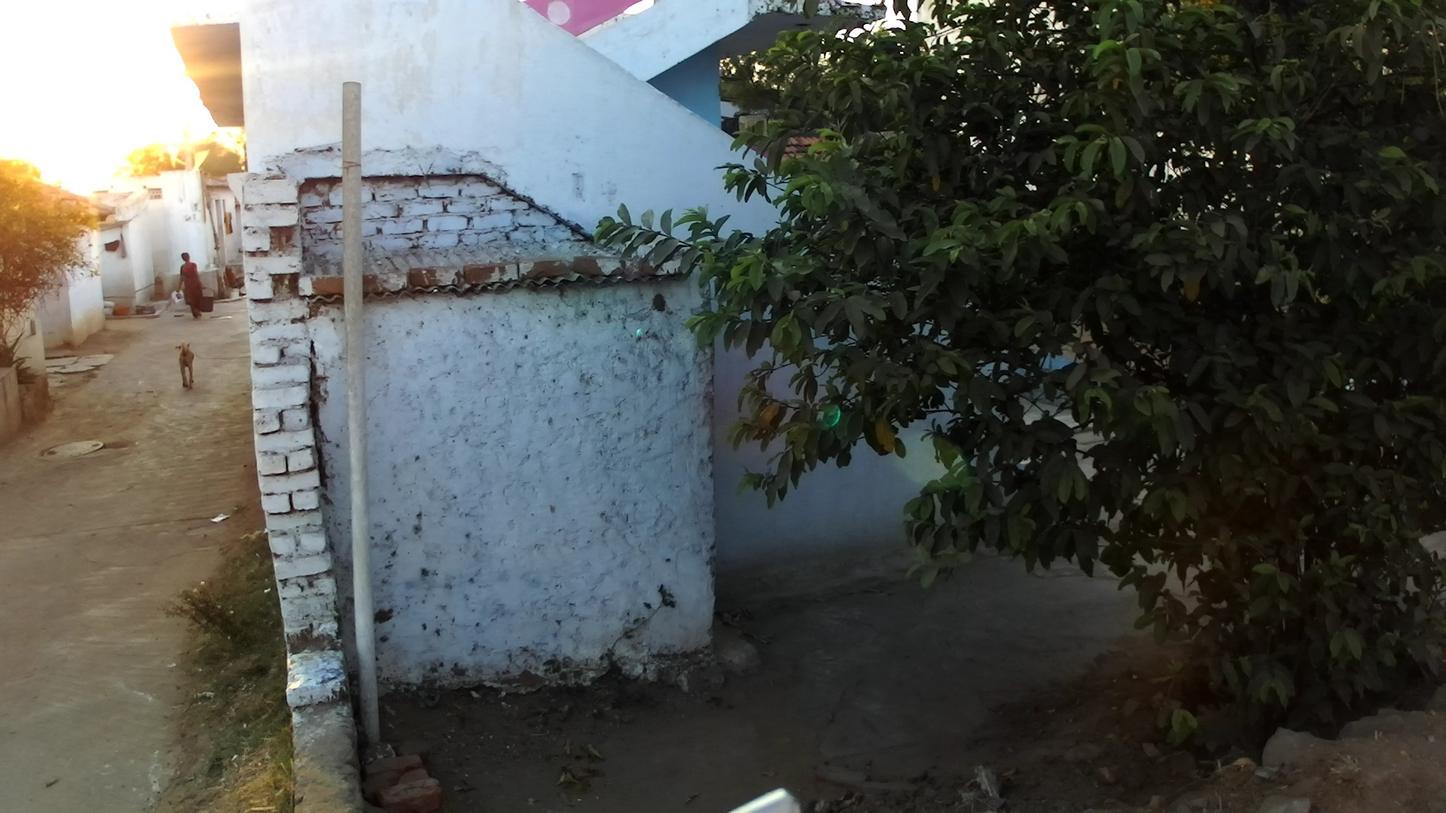animal: (172, 342, 196, 390)
person: (172, 247, 215, 321), (223, 265, 246, 297)
